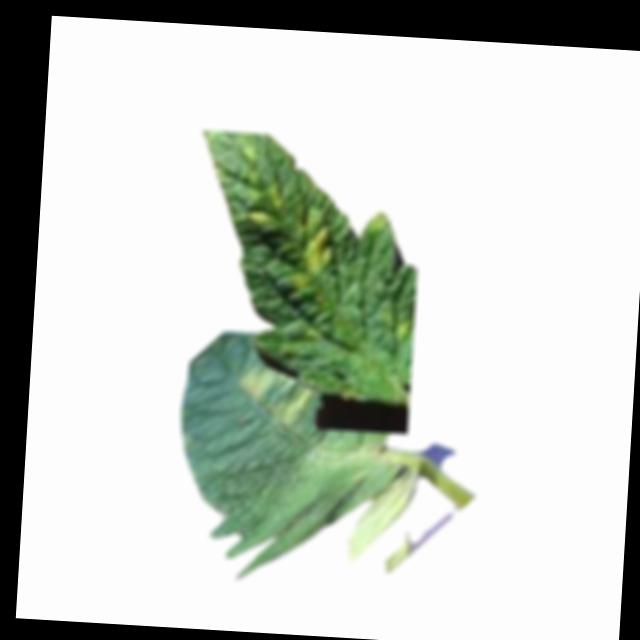Leaf_Mold: (285, 209, 336, 292), (241, 178, 284, 229), (266, 385, 314, 429), (236, 366, 275, 401)
